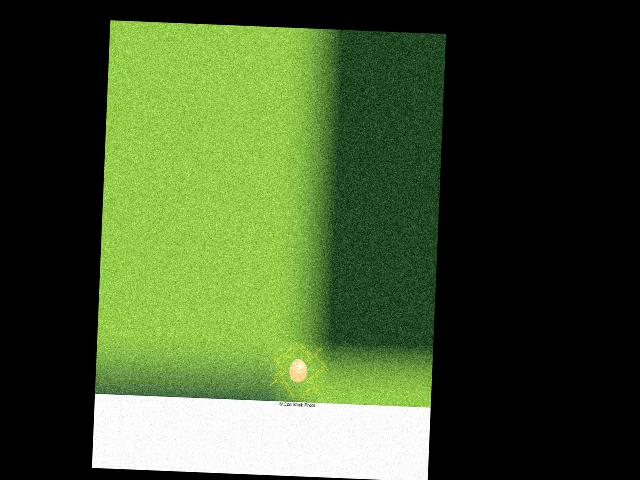egg: (289, 358, 307, 382)
